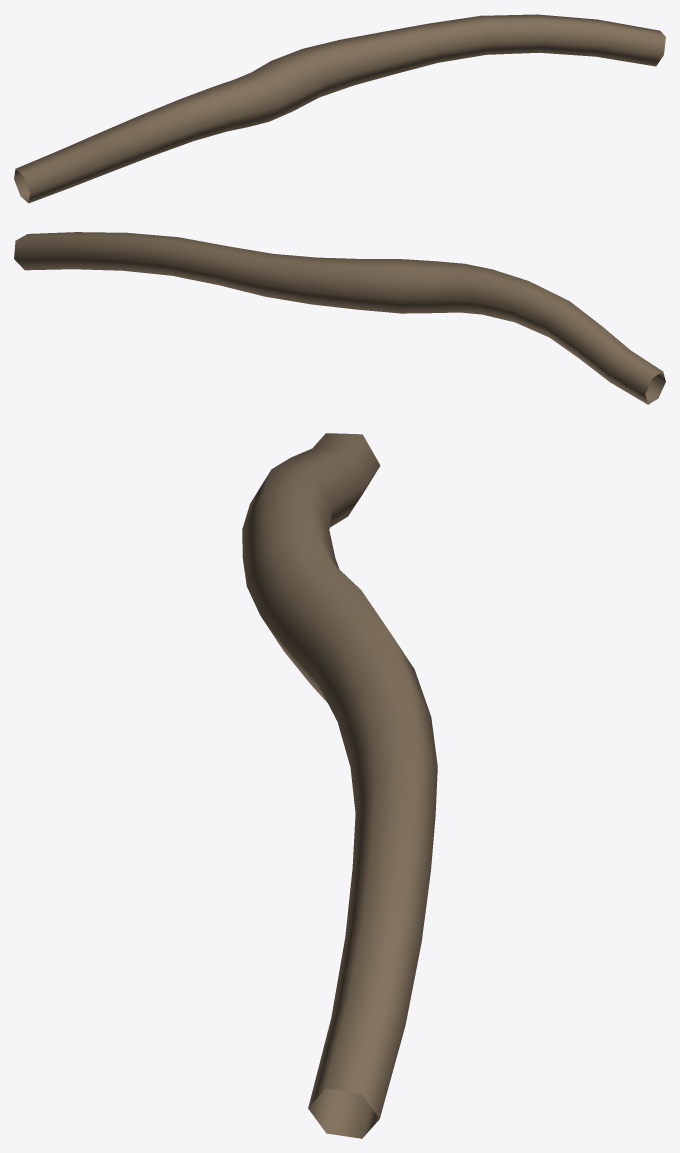
The model's file is SM_GroundRoot_Var1.fbx.
The picture shows the model from 3 angles, top to bottom: view 1: azimuth 30°, elevation 25°; view 2: azimuth 150°, elevation 25°; view 3: azimuth 270°, elevation 25°; orthographic projection. The views are drawn at different scales.
Visible parts, largest first — view 1: BezierCurve.042; view 2: BezierCurve.042; view 3: BezierCurve.042.
Part boxes in pixels (x1,y1,x2,y2): BezierCurve.042: [14, 14, 665, 203]; BezierCurve.042: [14, 232, 665, 404]; BezierCurve.042: [242, 433, 437, 1138].
Bounding box in the file's own units: 415 × 57.02 × 55.01.
